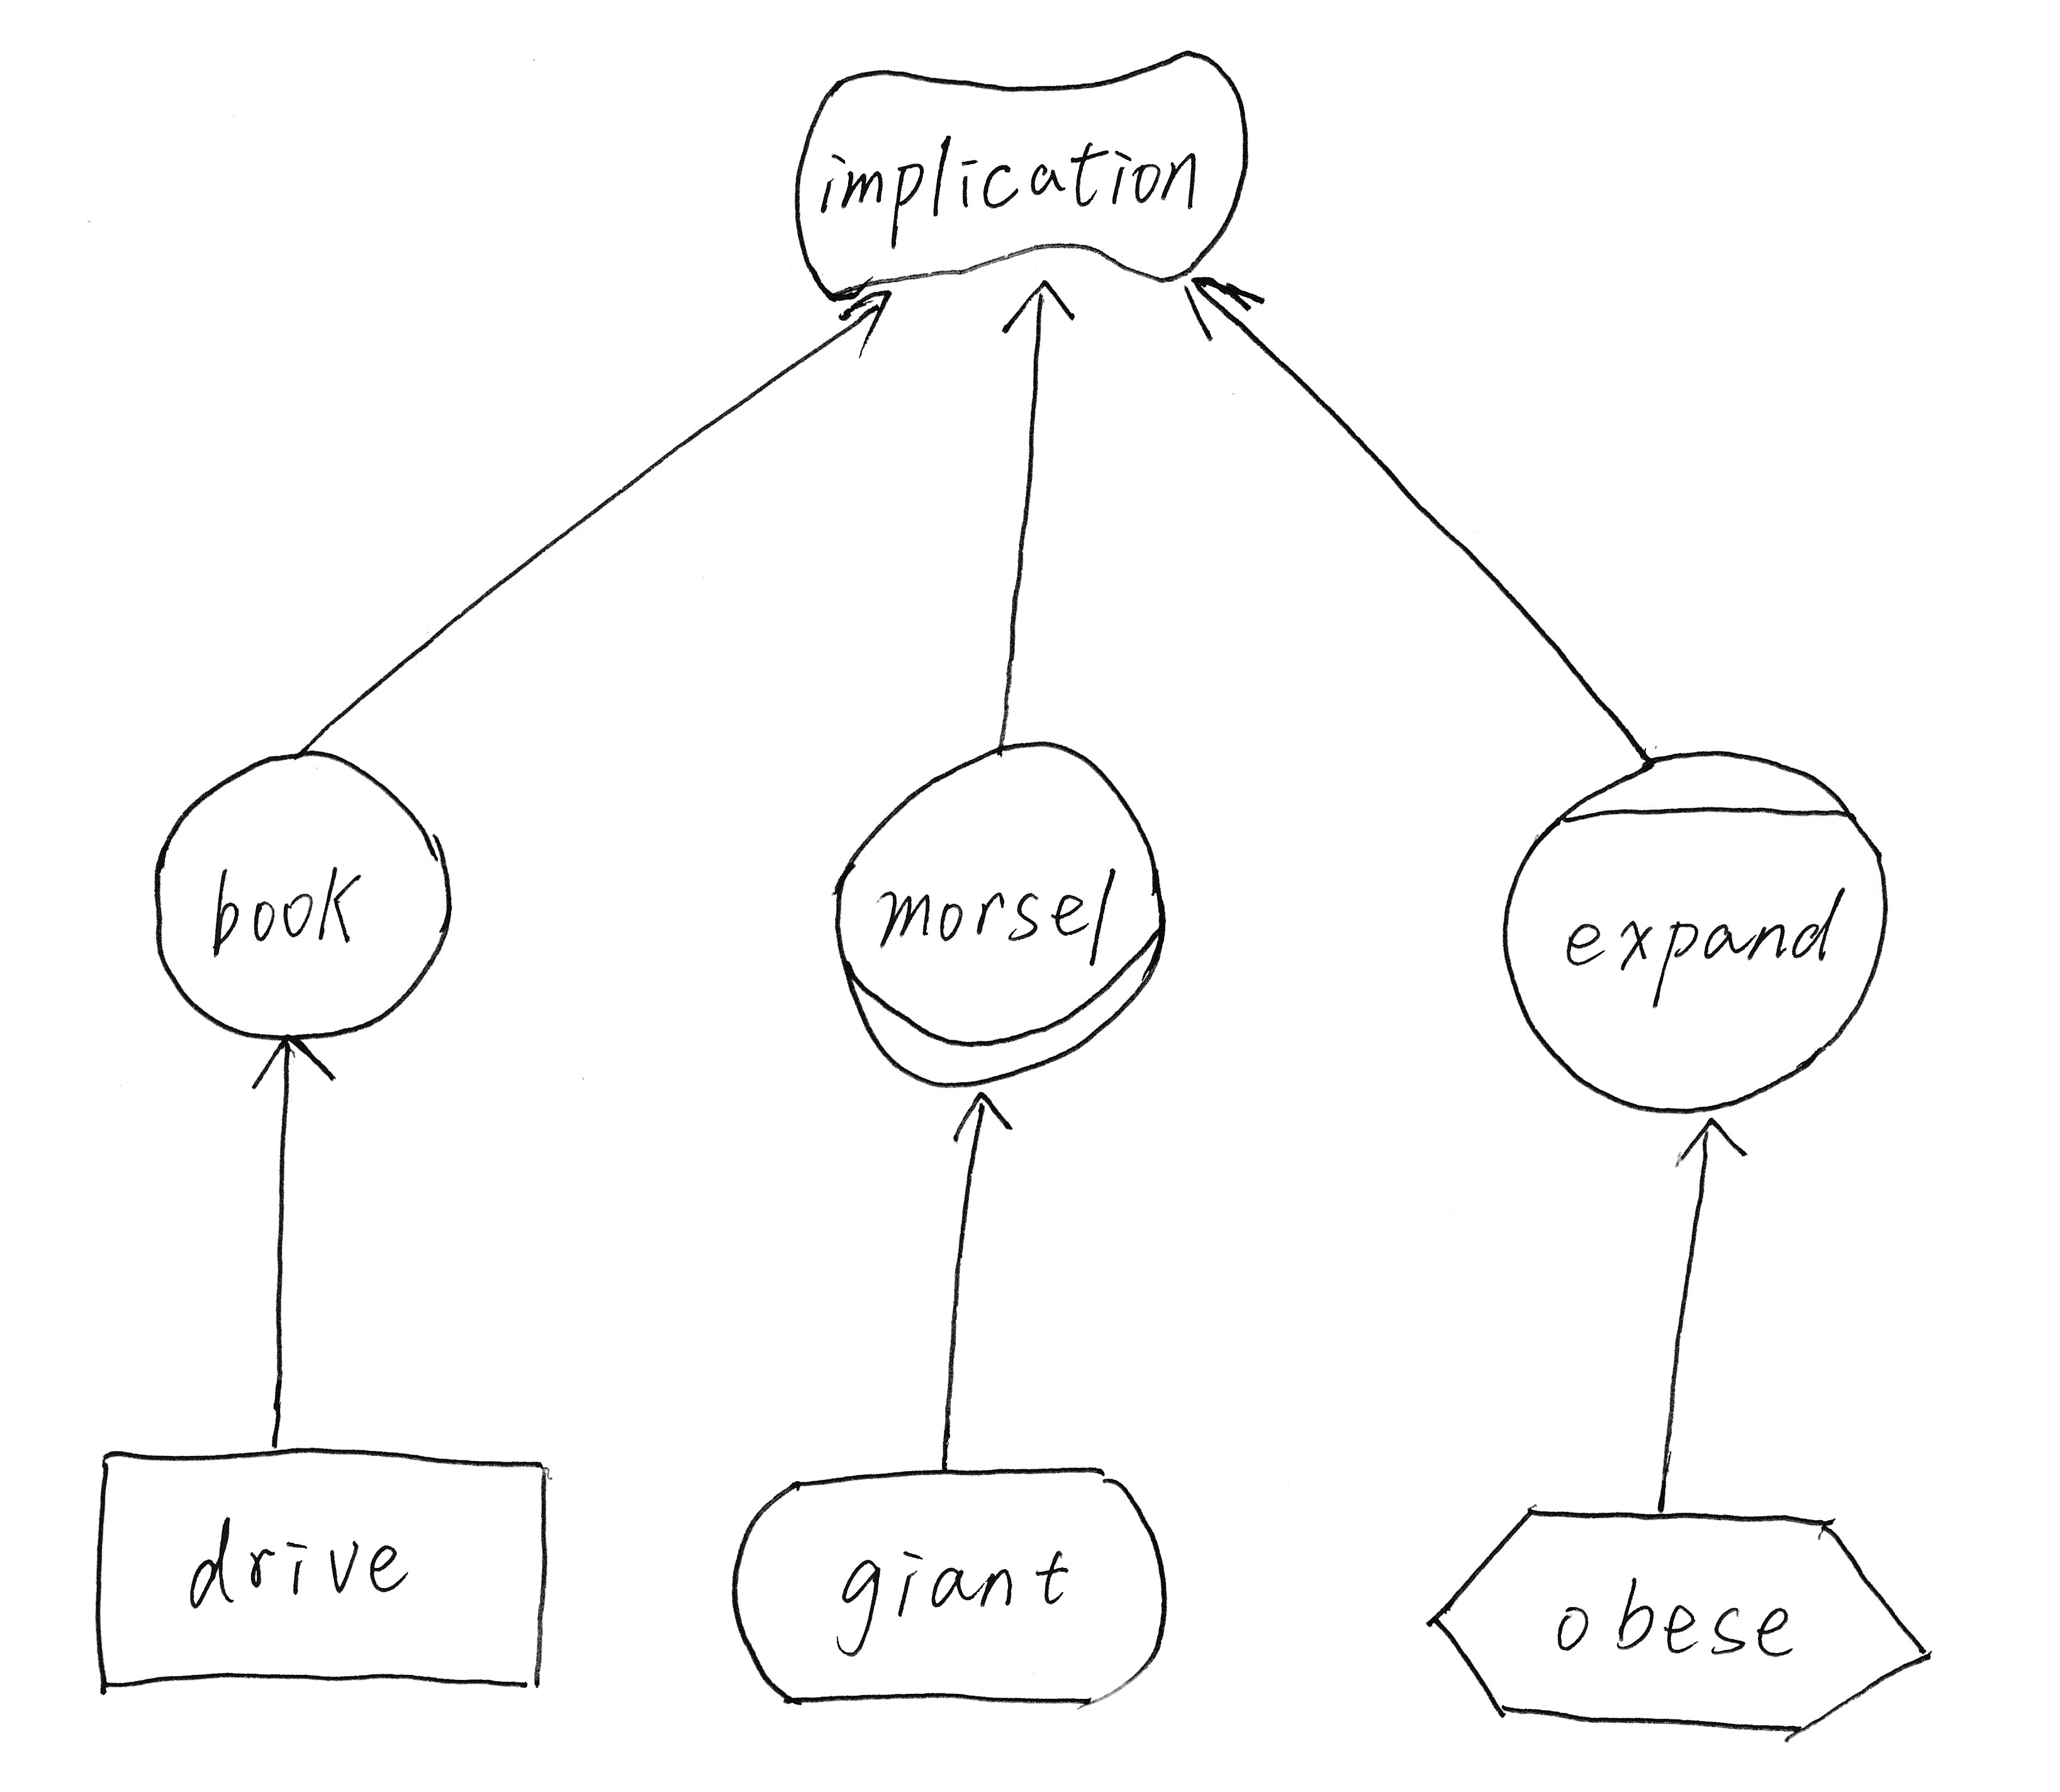actor: (130, 732, 471, 1062)
agent: (1470, 716, 1918, 1137)
arrow: (222, 1012, 350, 1111), (1161, 252, 1280, 354), (1654, 1093, 1762, 1198), (822, 268, 913, 368), (935, 1072, 1035, 1161), (993, 266, 1086, 349)
goal: (702, 1442, 1196, 1734)
quality: (769, 33, 1275, 326)
resource: (54, 1415, 585, 1718)
role: (804, 715, 1184, 1116)
task: (1408, 1484, 1967, 1759)
